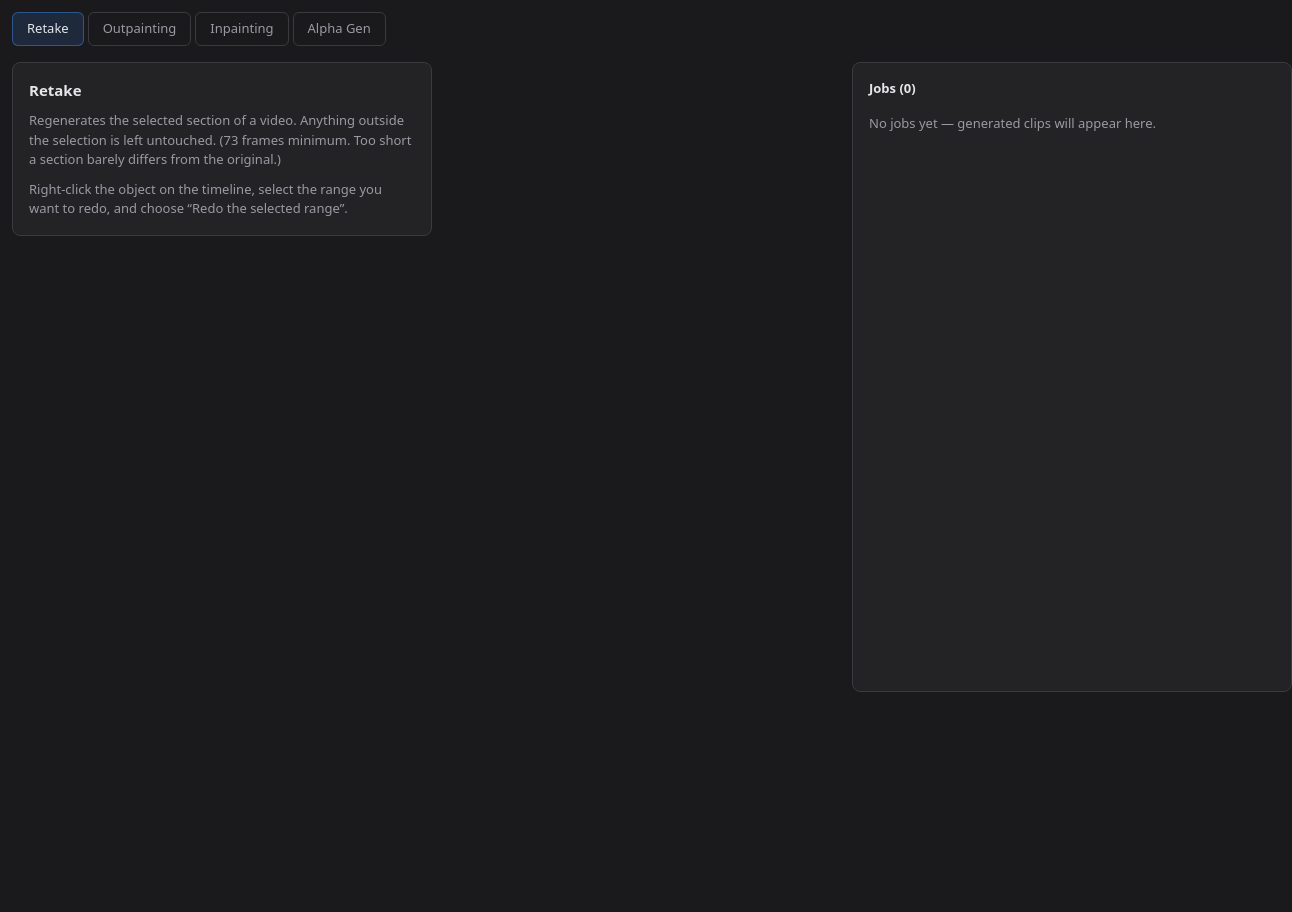
Scenario: EditScreen — Alpha Gen サブタブ › 末尾に並び、手動で開ける（入力動画が無いうちは押せない理由が出る）
The image size is (1292, 912).
Click the tab "Alpha Gen" at (339, 29), box [292,12,386,46]
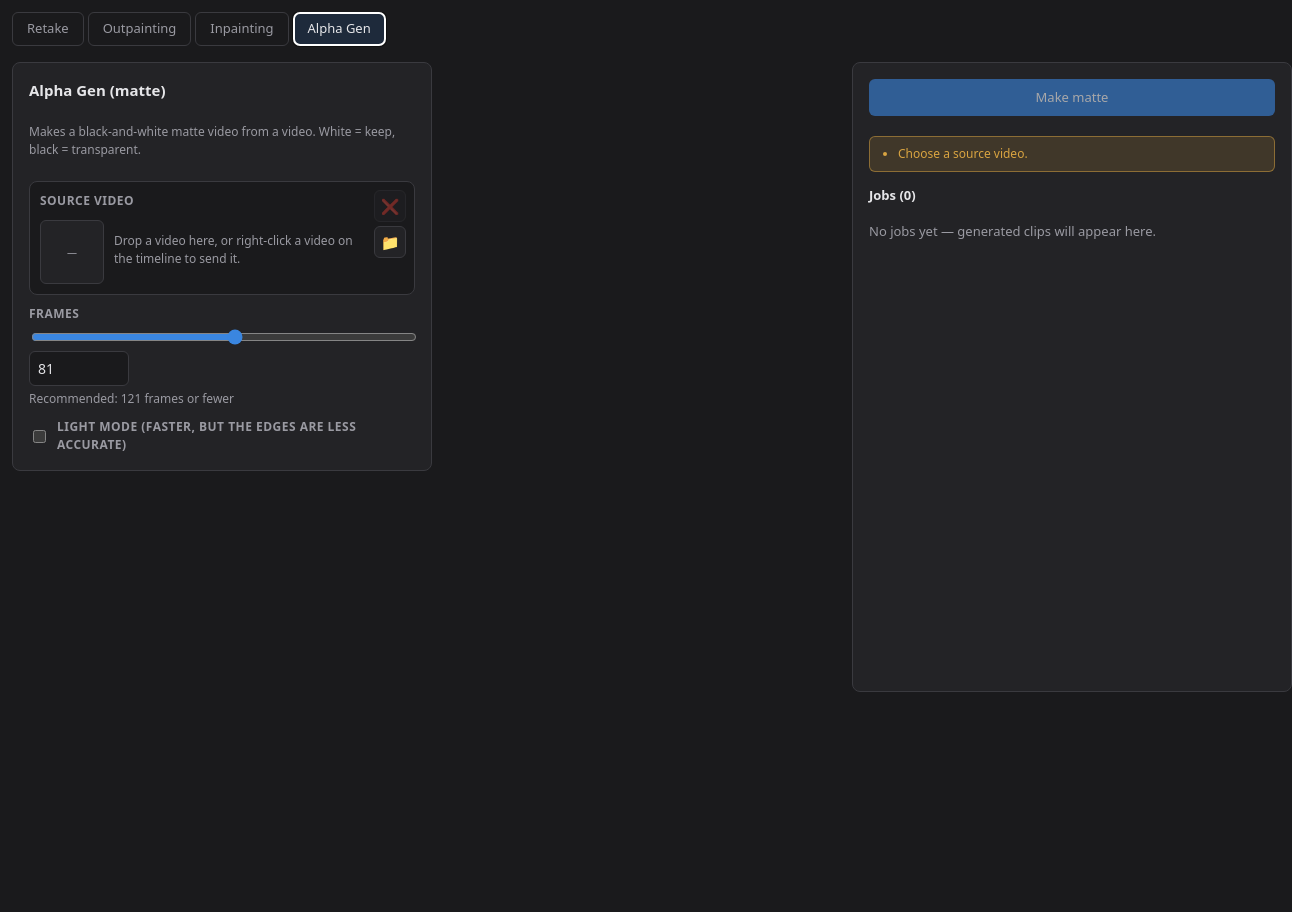
expect the heading "Alpha Gen (matte)" is shown: met, box [29,80,166,100]
expect the button "Make matte" is disabled: met, box [869,78,1275,116]
expect the list item "Choose a source video." is shown: met, box [898,145,1028,162]
